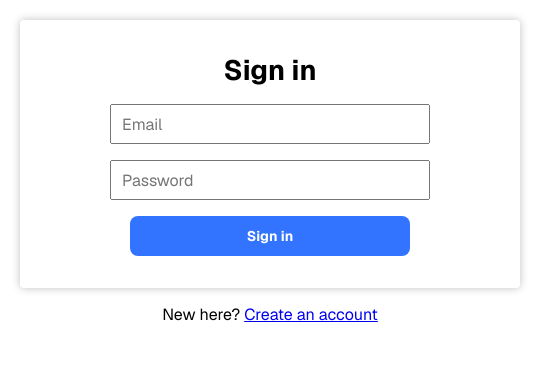
Scenario: SignInForm › should handle thrown errors correctly
Check: the text "Sign in" is shown, box [223,52,317,88]
Check: the password field with placeholder "Password" is shown, box [110,160,430,200]
Type "user@domain.com" into the field with placeholder "Email".
click(270, 124); type("user@domain.com")  # box [110,104,430,144]
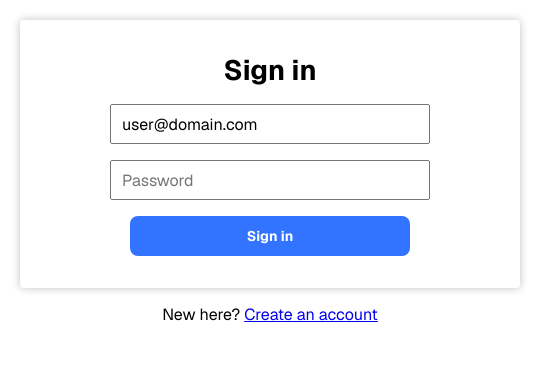
Type "Secret@123" into the password field with placeholder "Password".
click(270, 180); type("Secret@123")  # box [110,160,430,200]
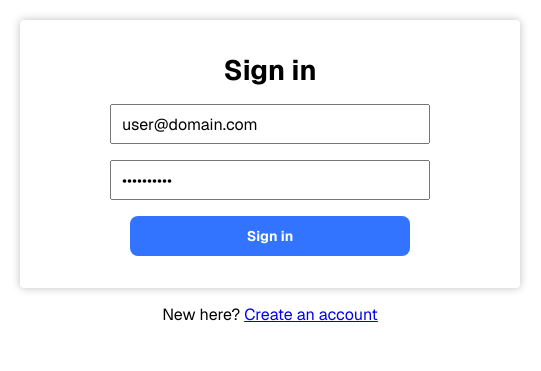
Click the button "Sign in".
click(270, 236)  # box [130,216,410,256]
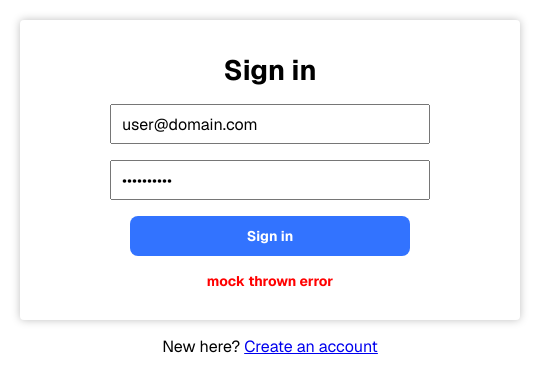
Check: the text "mock thrown error" is shown, box [207,272,333,290]
